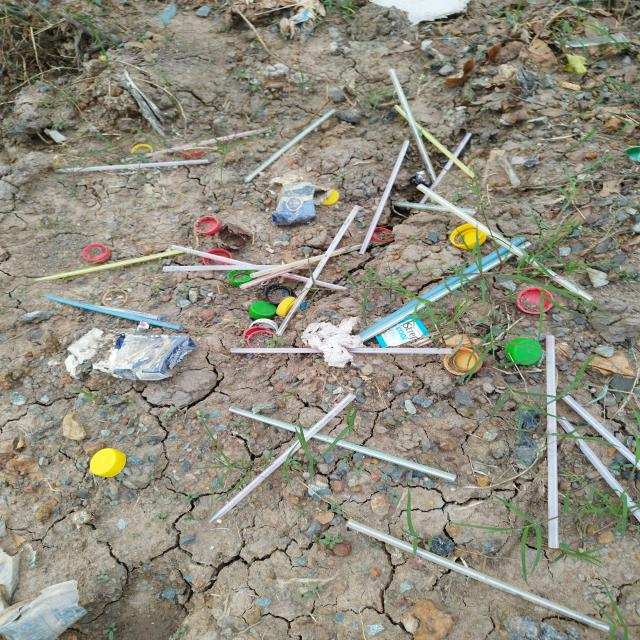drinking straw: (346, 520, 610, 632), (416, 184, 594, 302), (208, 393, 357, 523), (229, 405, 457, 482), (357, 236, 527, 338), (362, 242, 532, 340), (274, 205, 362, 337), (558, 416, 640, 522), (172, 244, 346, 290), (243, 109, 336, 182), (394, 105, 477, 181), (562, 394, 640, 470), (359, 140, 410, 256), (34, 246, 194, 282), (388, 69, 437, 182), (121, 126, 271, 162), (43, 294, 184, 330), (420, 132, 473, 204), (545, 336, 559, 548), (54, 160, 210, 172), (231, 348, 453, 354), (164, 265, 282, 271)
